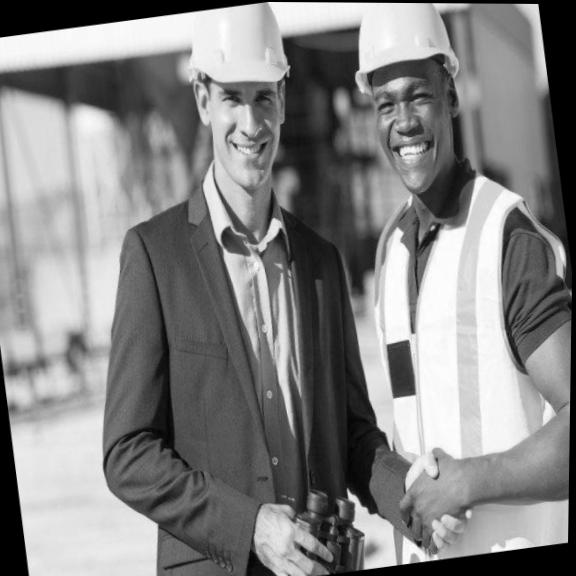no_safety_vest: (136, 173, 383, 576)
safety_vest: (343, 162, 574, 566)
